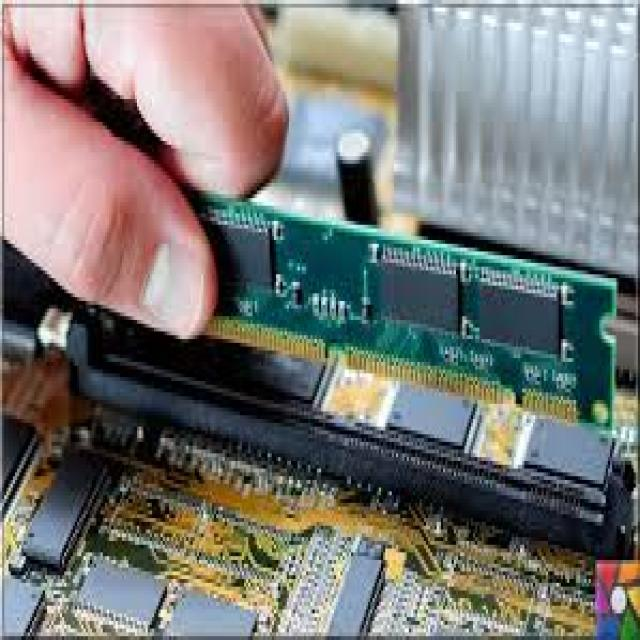Ram: (117, 84, 624, 489)
